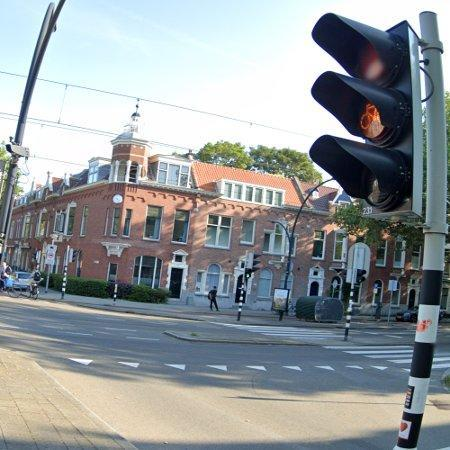traffic lights: (309, 11, 421, 218)
